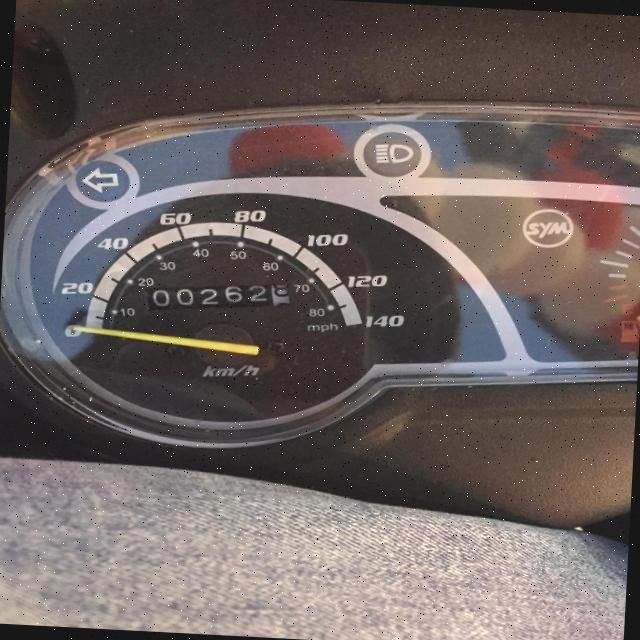odometer: (138, 274, 294, 320)
